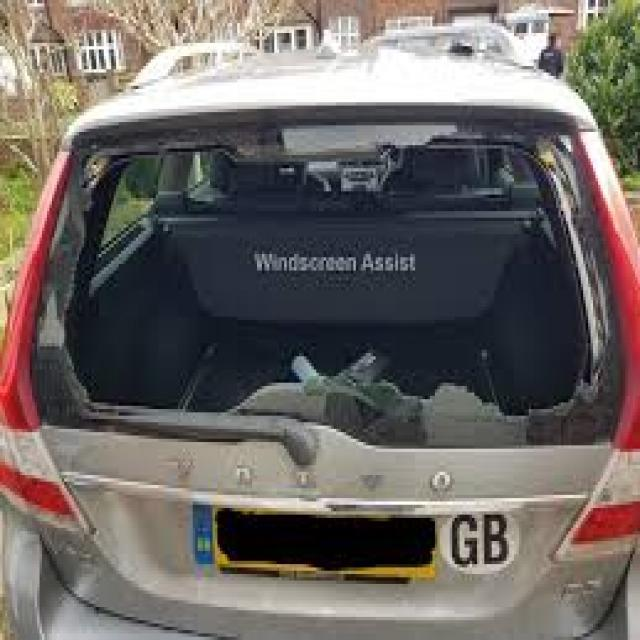damaged-rear-window: (43, 126, 617, 438)
